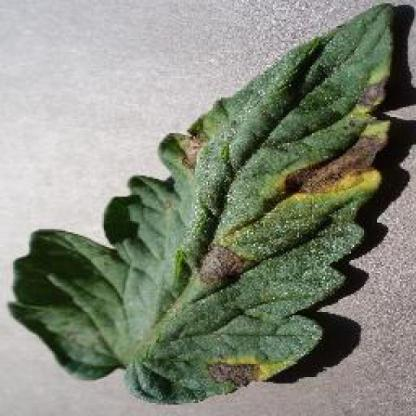Strawberry_Angular_LeafSpot: (285, 132, 382, 196), (195, 247, 253, 286), (212, 359, 260, 390), (182, 136, 211, 176), (360, 74, 388, 113)
